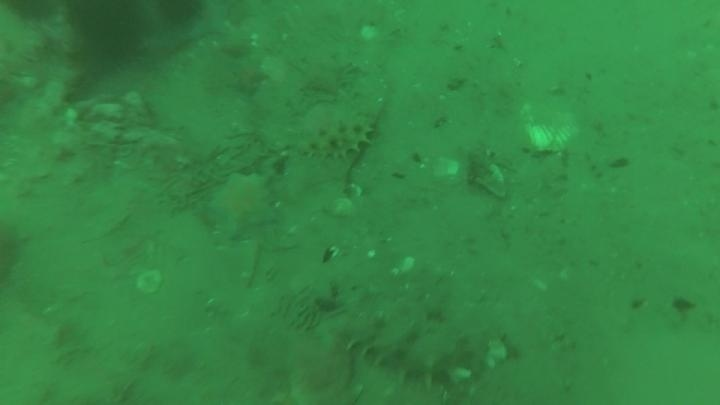echinus: (64, 1, 150, 66), (1, 220, 30, 287), (153, 1, 207, 29), (3, 1, 61, 26)
holothurian: (333, 309, 492, 385), (294, 111, 380, 164)
scallop: (518, 98, 581, 155)
starfish: (203, 171, 281, 243), (297, 54, 354, 99), (184, 2, 243, 44), (226, 54, 271, 99)
